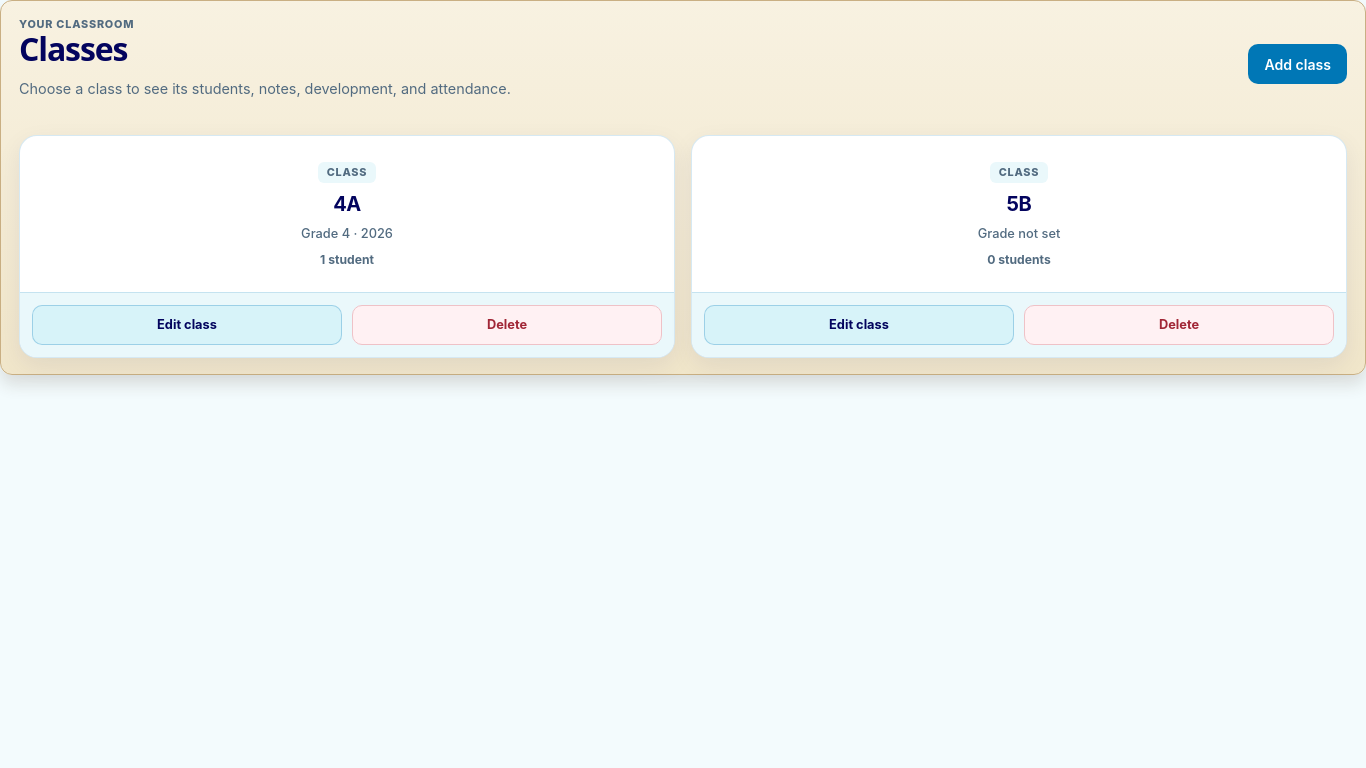
edits all class details from the list without navigating or changing active class
This screenshot has width=1366, height=768.
Click the button with aria-label "Edit 4A" at (187, 325), box top-left (32, 305), bottom-right (342, 345)
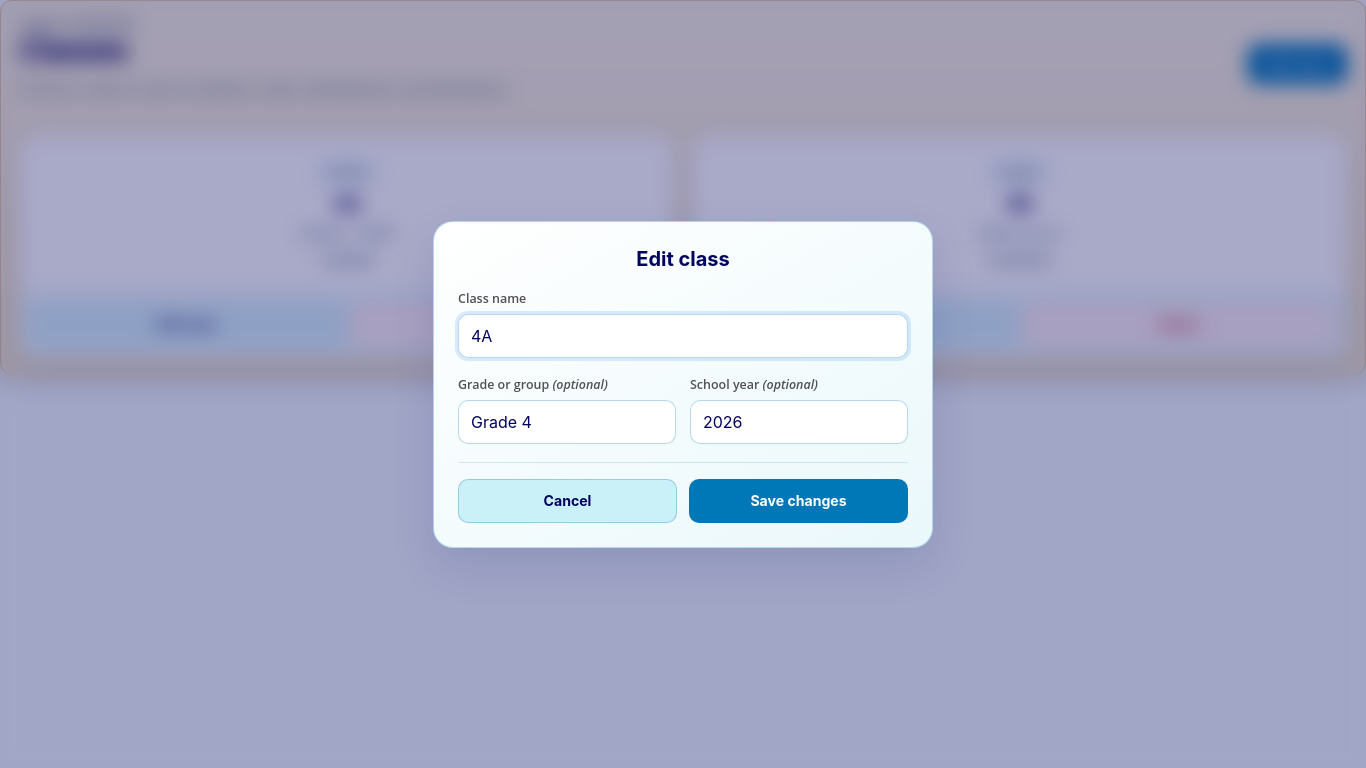
Expected: the field labelled "Class name" holds "4A"
Expected: the field labelled "Grade or group (optional)" holds "Grade 4", top-left (458, 400), bottom-right (676, 444)
Expected: the field labelled "School year (optional)" holds "2026", top-left (690, 400), bottom-right (908, 444)
Replace the text in the field labelled "Class name" with "4C" at (683, 336), box top-left (458, 314), bottom-right (908, 358)
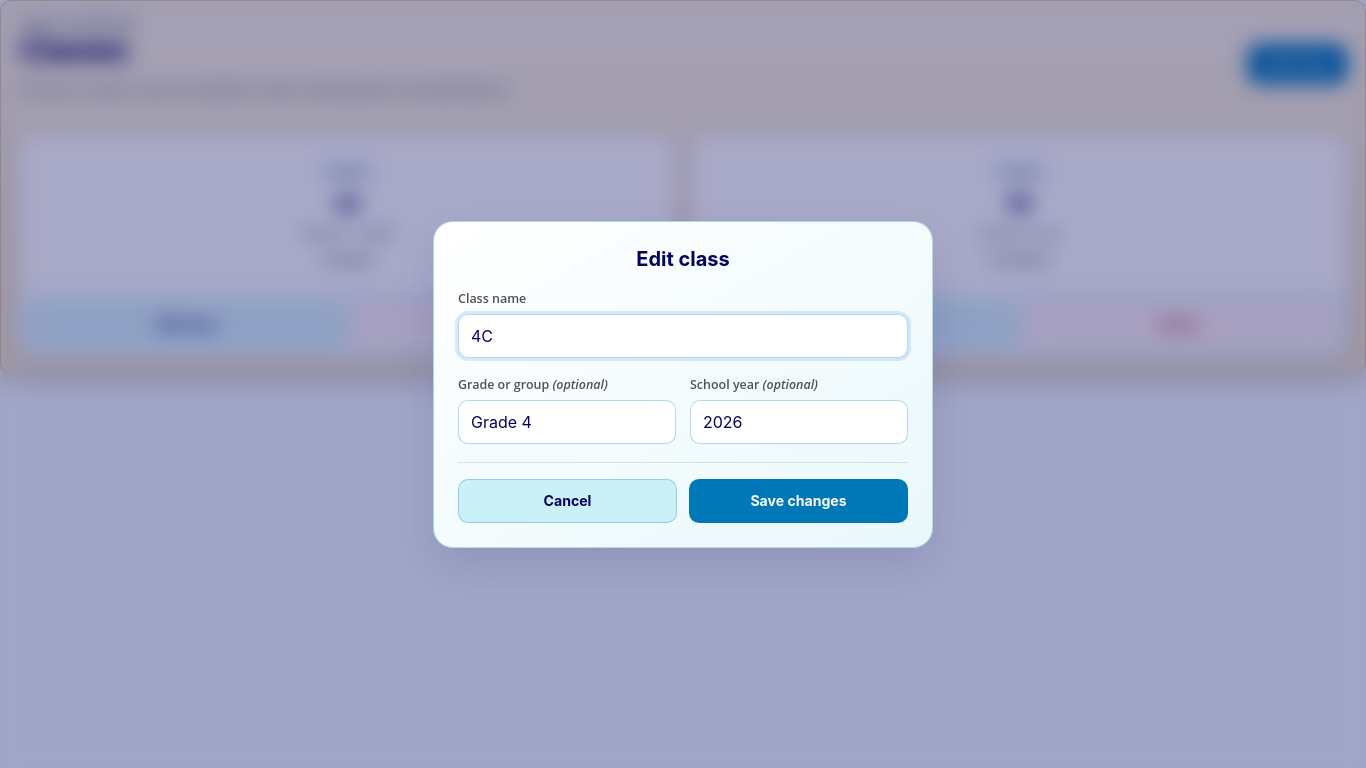
Replace the text in the field labelled "Grade or group (optional)" with "Grade 5" at (567, 422), box top-left (458, 400), bottom-right (676, 444)
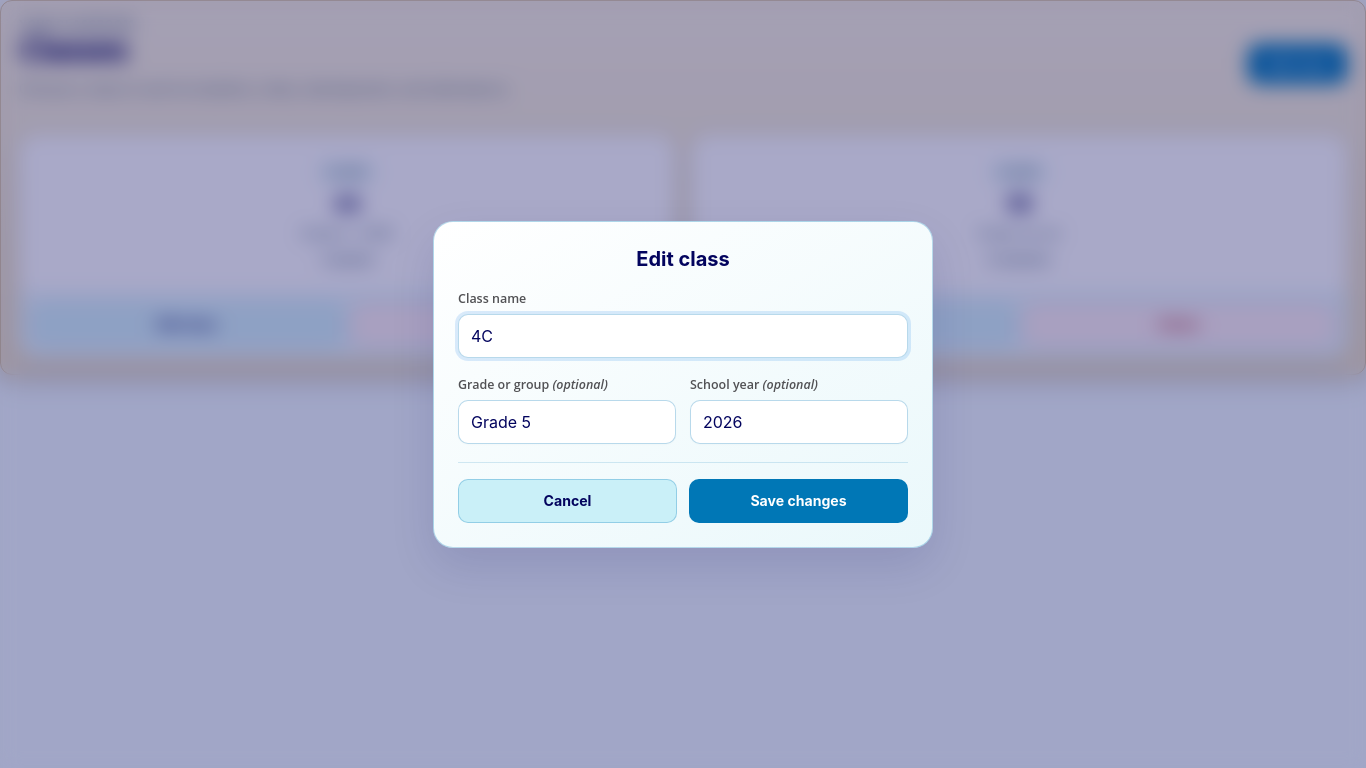
Replace the text in the field labelled "School year (optional)" with "2027–28" at (799, 422), box top-left (690, 400), bottom-right (908, 444)
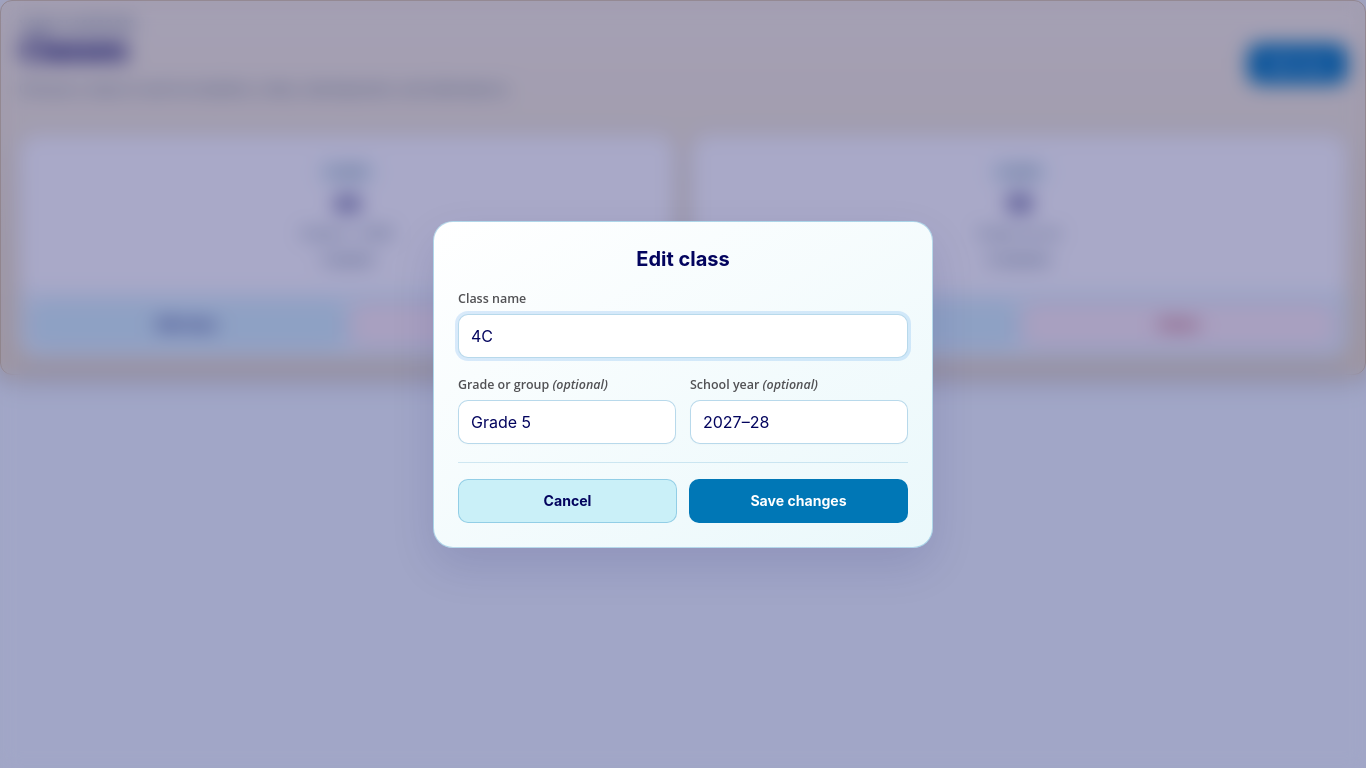
Click the button "Save changes" at (798, 500), box top-left (689, 478), bottom-right (908, 522)
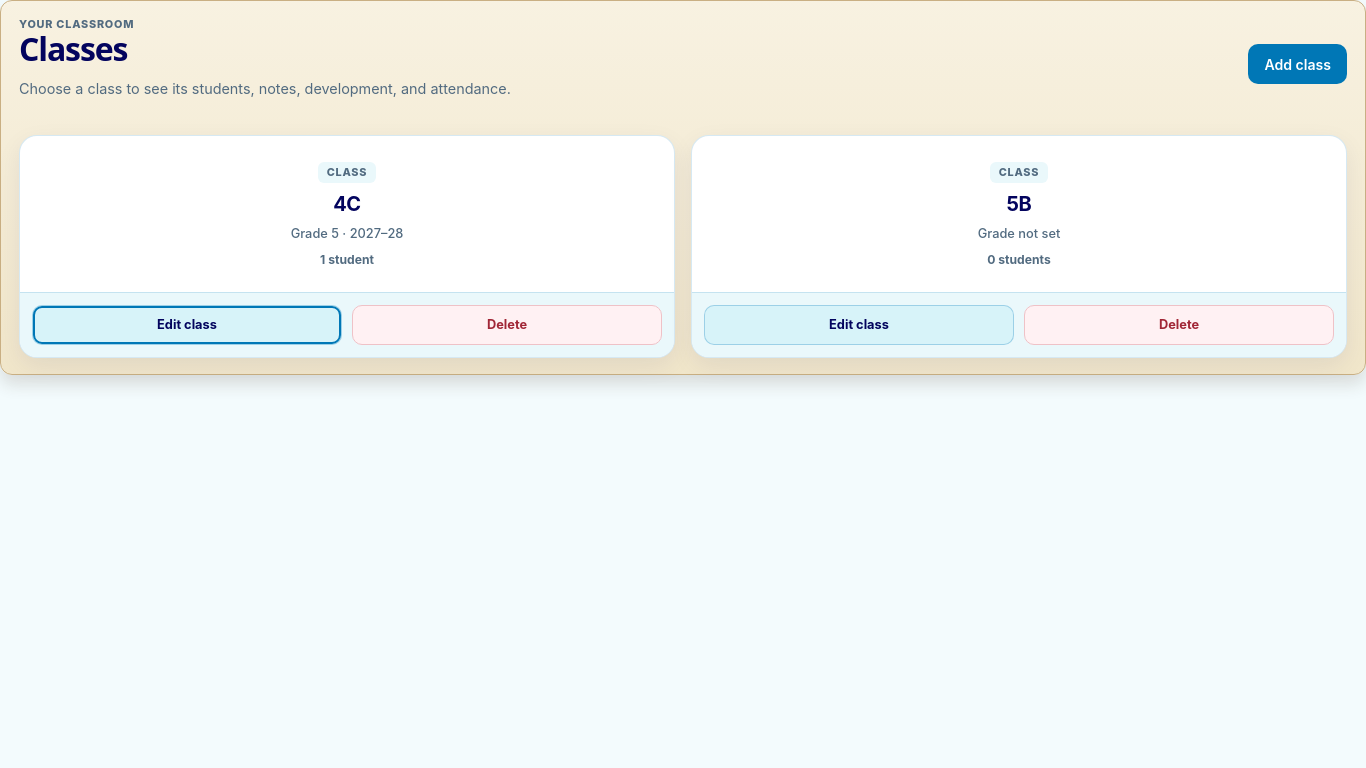
Expected: the dialog is gone
Expected: the text "4C" is shown, top-left (333, 192), bottom-right (361, 216)
Expected: the text "Grade 5 · 2027–28" is shown, top-left (291, 225), bottom-right (403, 243)
